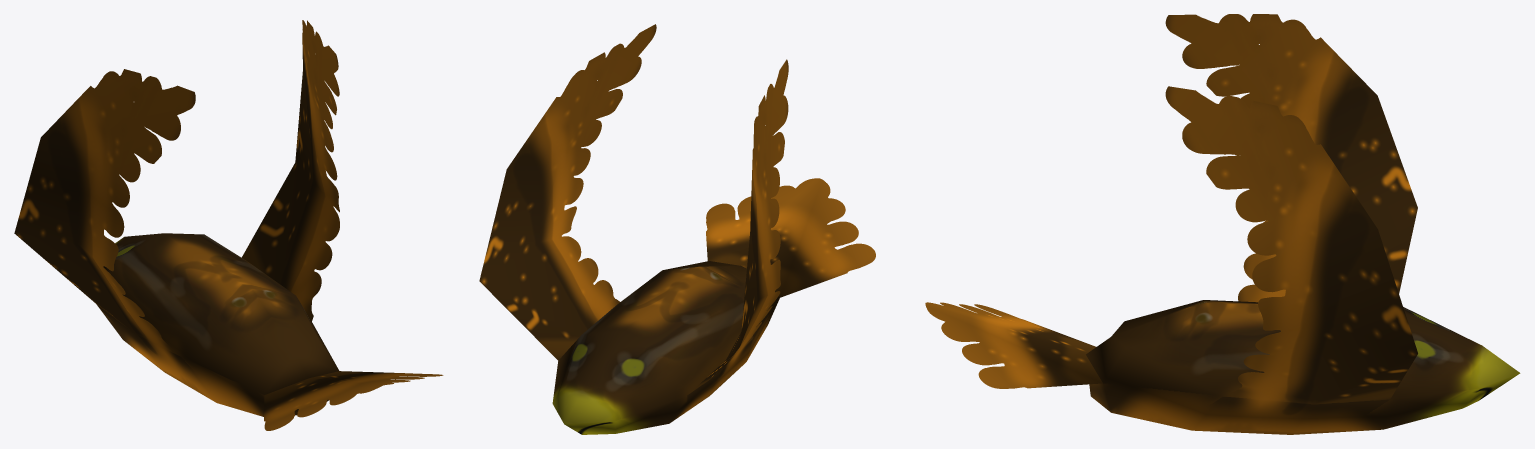
File: Bird.obj
3 views of the same model, side by side, from view 1: azimuth 30°, elevation 25°; view 2: azimuth 150°, elevation 25°; view 3: azimuth 270°, elevation 25° (orthographic). The views are drawn at different scales.
Parts seen in each view (by area): view 1: Cube; view 2: Cube; view 3: Cube.
Part boxes in pixels (x1=…): Cube: x1=14, y1=20, x2=443, y2=430; Cube: x1=479, y1=24, x2=875, y2=434; Cube: x1=925, y1=14, x2=1520, y2=434.
Size of the model in its own units: 2.75 by 3.23 by 4.77.
